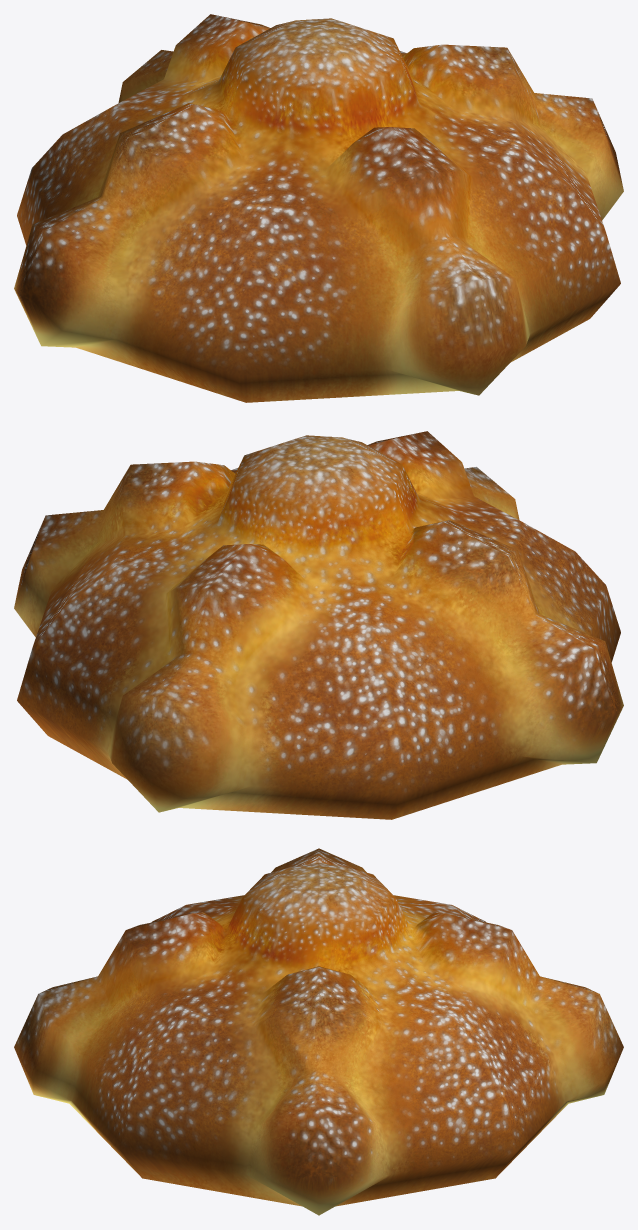
Rendered from Bread.fbx.
The picture shows the model from 3 angles, top to bottom: view 1: azimuth 30°, elevation 25°; view 2: azimuth 150°, elevation 25°; view 3: azimuth 270°, elevation 25°; orthographic projection. The views are drawn at different scales.
Visible parts, largest first — view 1: Bread; view 2: Bread; view 3: Bread.
Boxes of the visible parts, left/top/right/bottom form: Bread: left=14, top=14, right=623, bottom=402; Bread: left=14, top=431, right=623, bottom=819; Bread: left=14, top=848, right=623, bottom=1215.
Size of the model in its own units: 14.41 by 5.97 by 14.39.
